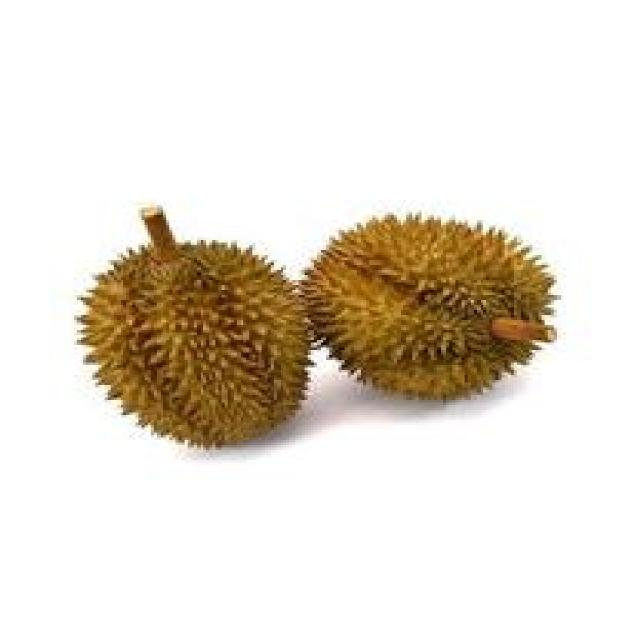fruit: (46, 215, 339, 480), (274, 190, 578, 428)
